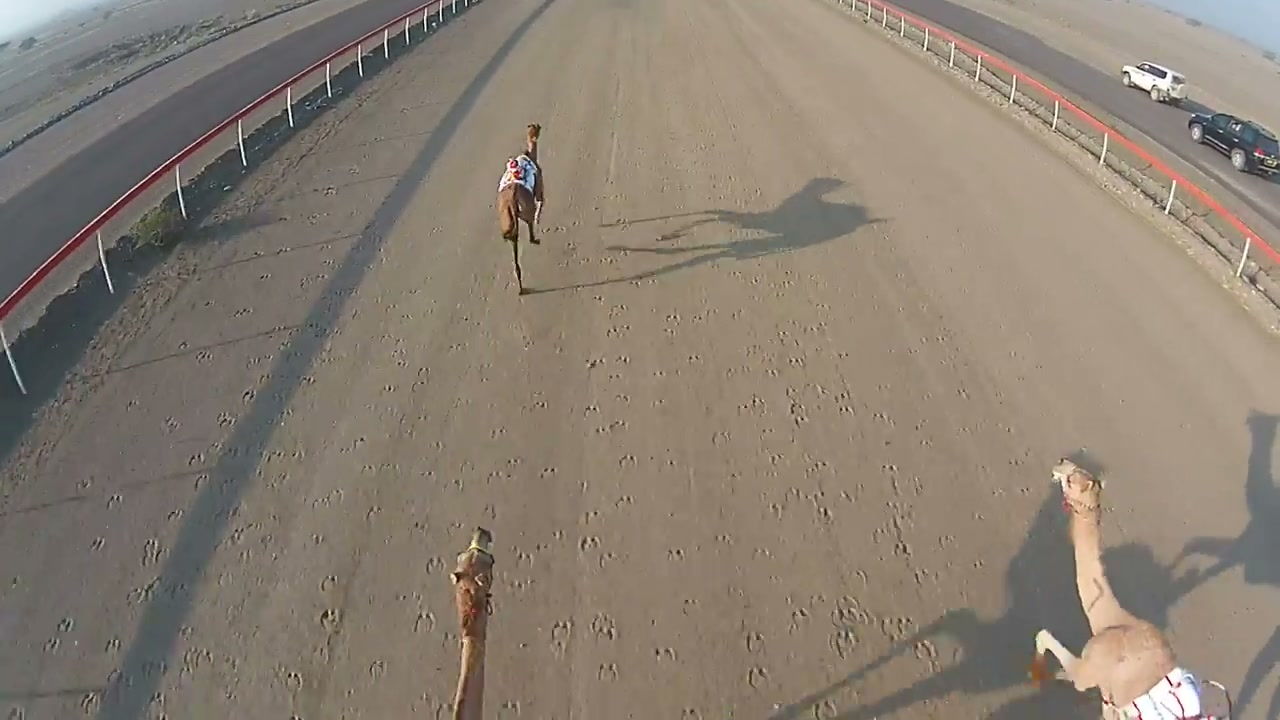animal_footprint: (533, 200, 906, 719), (13, 344, 386, 719)
